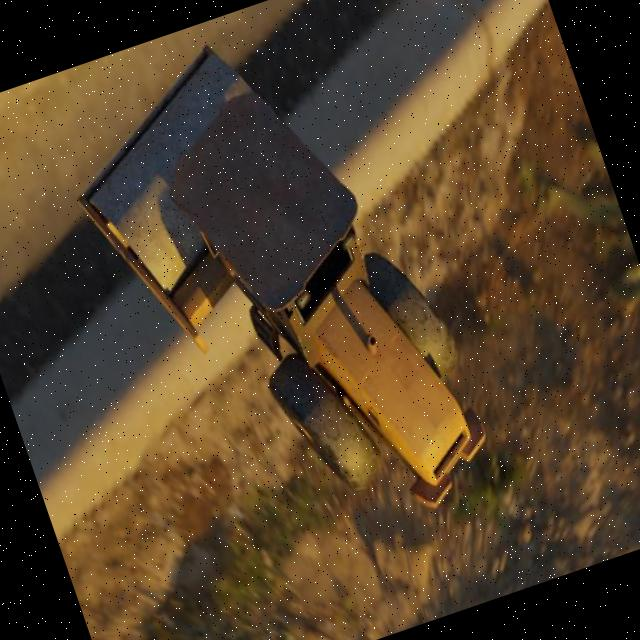Roller: (41, 0, 503, 585)
